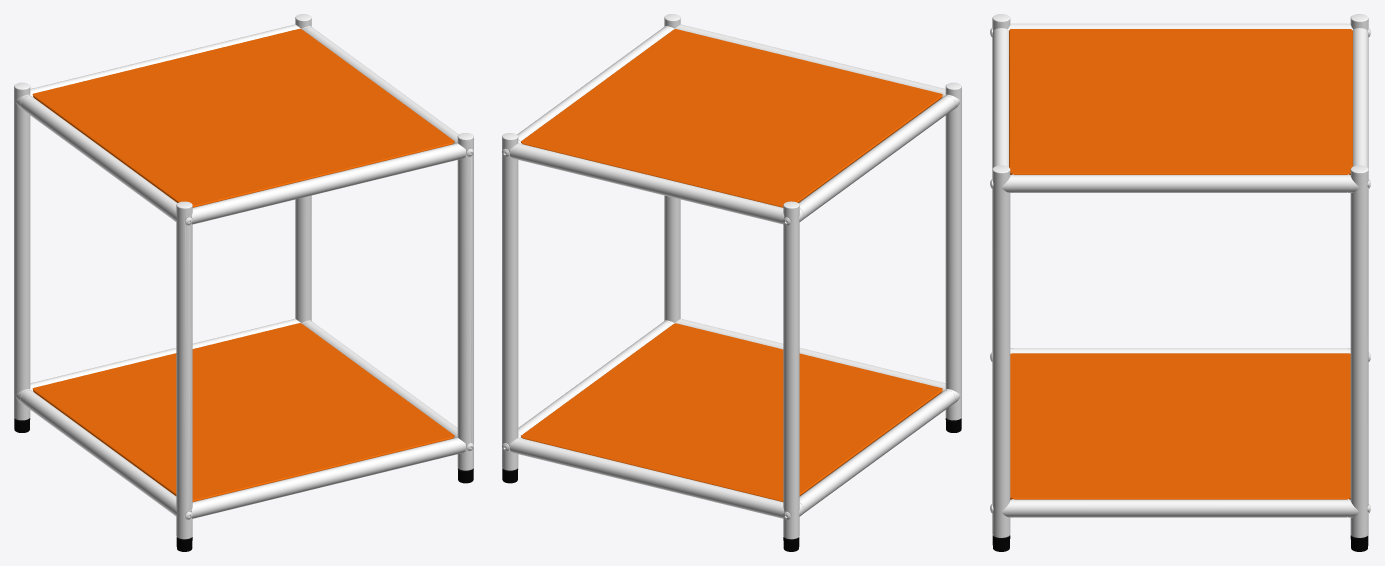
File: 40x40x40-2-1-Orange_optimized_optimized.glb
3 views of the same model, side by side, from view 1: azimuth 30°, elevation 25°; view 2: azimuth 150°, elevation 25°; view 3: azimuth 270°, elevation 25° (orthographic). The views are drawn at different scales.
Visible parts, largest first — view 1: 直角鐵板-40x40-5 - 零件, 反-鐵管-40-354..4-1 - 零件, 圓形腳+調整器-1 - 零件; view 2: 直角鐵板-40x40-5 - 零件, 反-鐵管-40-354..4-1 - 零件, 圓形腳+調整器-1 - 零件; view 3: 直角鐵板-40x40-5 - 零件, 反-鐵管-40-354..4-1 - 零件, 圓形腳+調整器-1 - 零件.
Part boxes in pixels (x1,y1,x2,y2): 直角鐵板-40x40-5 - 零件: [32, 28, 454, 501]; 反-鐵管-40-354..4-1 - 零件: [14, 14, 473, 539]; 圓形腳+調整器-1 - 零件: [14, 418, 473, 551]; 直角鐵板-40x40-5 - 零件: [521, 29, 942, 501]; 反-鐵管-40-354..4-1 - 零件: [502, 14, 961, 539]; 圓形腳+調整器-1 - 零件: [502, 418, 961, 551]; 直角鐵板-40x40-5 - 零件: [1009, 29, 1352, 499]; 反-鐵管-40-354..4-1 - 零件: [990, 14, 1370, 537]; 圓形腳+調整器-1 - 零件: [992, 535, 1368, 551].
Size of the model in its own units: 0.3992 by 0.4453 by 0.4035.
